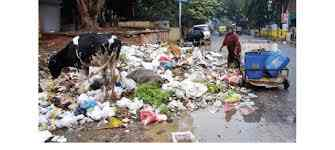general_waste: (40, 30, 295, 105)
